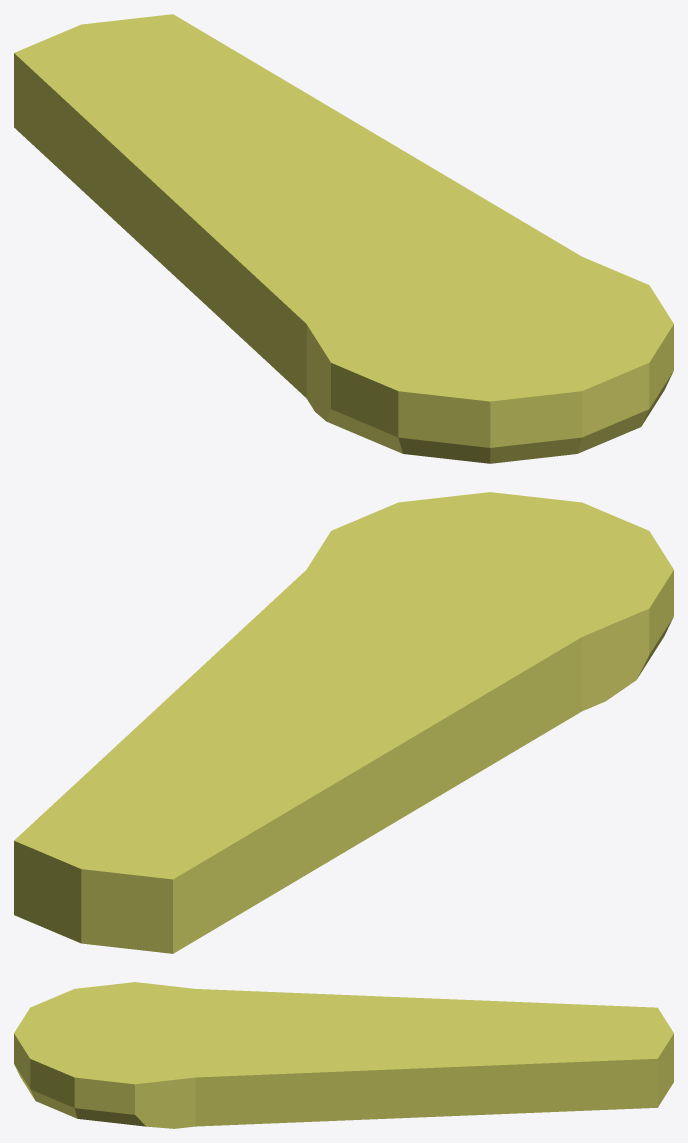
File: PianoLeg.fbx
3 views of the same model, one above another, from view 1: azimuth 30°, elevation 25°; view 2: azimuth 150°, elevation 25°; view 3: azimuth 270°, elevation 25° (orthographic). The views are drawn at different scales.
Parts seen in each view (by area): view 1: Leg; view 2: Leg; view 3: Leg.
Part boxes in pixels (x1,y1,x2,y2): Leg: [14, 14, 673, 463]; Leg: [14, 492, 673, 953]; Leg: [14, 982, 673, 1128].
Bounding box in the file's own units: 4 × 0.8939 × 10.9.
